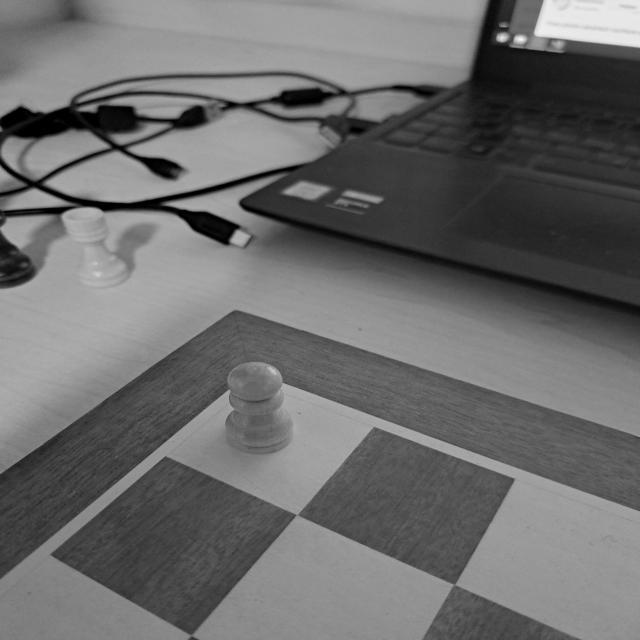chess-table-corners: (195, 348, 318, 422)
